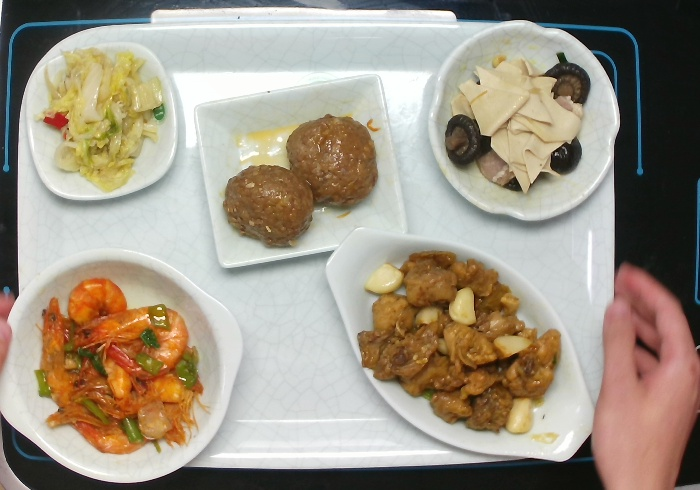JYsf-Ao_Yuan_Wan: (424, 18, 623, 223)
JYsf-Shuang_Er_Wan: (1, 245, 247, 484)
JYsf-Si_Fang_Die: (23, 39, 181, 204)
JYsf-Yu_Pan: (322, 223, 600, 465)
WCQzf-Ru_Ci_Si_Fang_Die: (191, 70, 410, 270)
